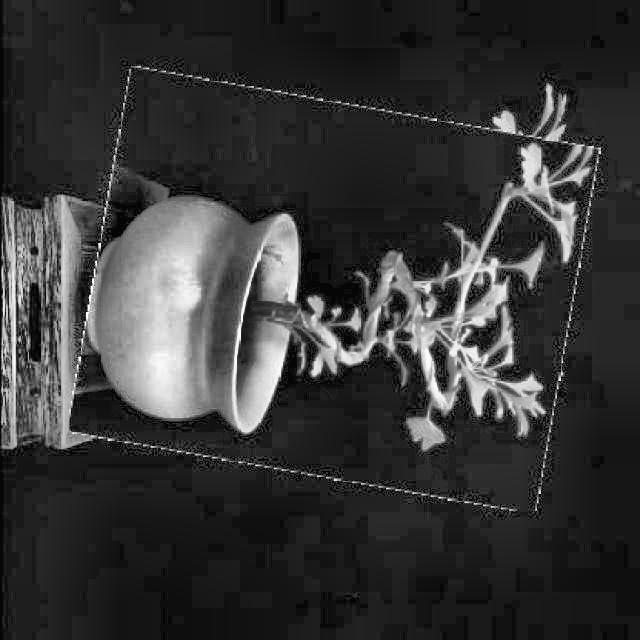plants: (79, 86, 584, 494)
